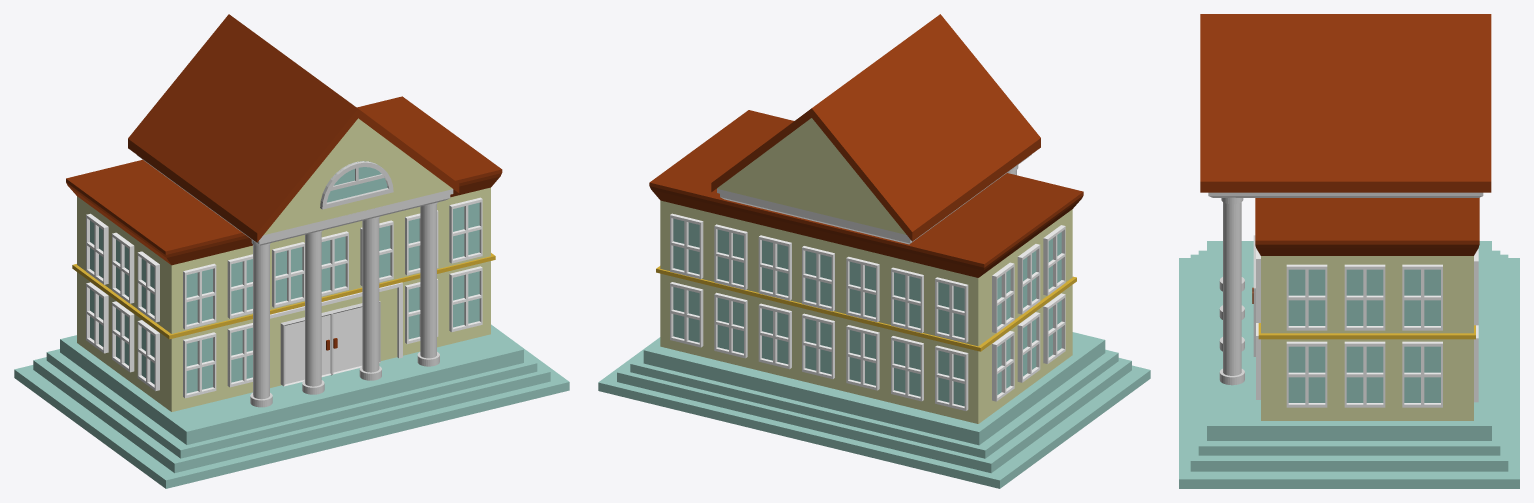
File: sehirmerkezi.fbx
3 views of the same model, side by side, from view 1: azimuth 30°, elevation 25°; view 2: azimuth 150°, elevation 25°; view 3: azimuth 270°, elevation 25° (orthographic). The views are drawn at different scales.
Parts seen in each view (by area): view 1: Cube.017, Plane.002, Cube, Cube.016, Plane.001, Cube.044, Cylinder.002, Cylinder, Cylinder.001, Cylinder.003, Cube.015, Plane (+21 smaller); view 2: Cube.017, Plane.002, Cube, Cube.016, Plane.001, Cube.015, Cube.024, Cube.026, Cube.028, Cube.030, Cube.031, Cube.034 (+15 smaller); view 3: Plane.002, Cube.017, Cube, Cube.016, Cylinder.003, Cube.018, Cube.019, Cube.020, Cube.021, Cube.022, Cube.023, Plane (+2 smaller).
Part boxes in pixels (<box>): Cube.017: <box>14,324,569,488</box>; Plane.002: <box>128,14,459,242</box>; Cube: <box>77,187,490,411</box>; Cube.016: <box>66,96,502,265</box>; Plane.001: <box>263,118,452,235</box>; Cube.044: <box>285,307,362,384</box>; Cylinder.002: <box>359,216,381,380</box>; Cylinder: <box>250,240,272,407</box>; Cylinder.001: <box>302,230,324,394</box>; Cylinder.003: <box>417,202,439,366</box>; Cube.015: <box>72,253,495,339</box>; Plane: <box>137,155,453,245</box>; Cube.017: <box>598,332,1150,488</box>; Plane.002: <box>711,14,1040,241</box>; Cube: <box>660,200,1072,423</box>; Cube.016: <box>649,110,1083,277</box>; Plane.001: <box>717,118,906,234</box>; Cube.015: <box>656,266,1076,351</box>; Cube.024: <box>670,213,703,279</box>; Cube.026: <box>714,224,747,289</box>; Cube.028: <box>758,235,791,300</box>; Cube.030: <box>846,256,879,322</box>; Cube.031: <box>846,325,879,390</box>; Cube.034: <box>935,277,968,342</box>; Plane.002: <box>1200,14,1491,192</box>; Cube.017: <box>1179,241,1519,488</box>; Cube: <box>1261,256,1473,420</box>; Cube.016: <box>1255,198,1479,255</box>; Cylinder.003: <box>1219,197,1244,385</box>; Cube.018: <box>1286,264,1327,330</box>; Cube.019: <box>1286,341,1327,407</box>; Cube.020: <box>1344,264,1385,330</box>; Cube.021: <box>1344,341,1385,407</box>; Cube.022: <box>1402,264,1442,330</box>; Cube.023: <box>1402,341,1442,407</box>; Plane: <box>1208,192,1483,197</box>.
Bounding box in the file's own units: 1131 × 867 × 736.
